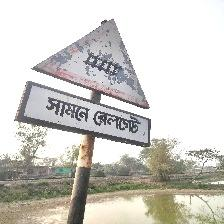Rail-crossing: (15, 17, 153, 147)
